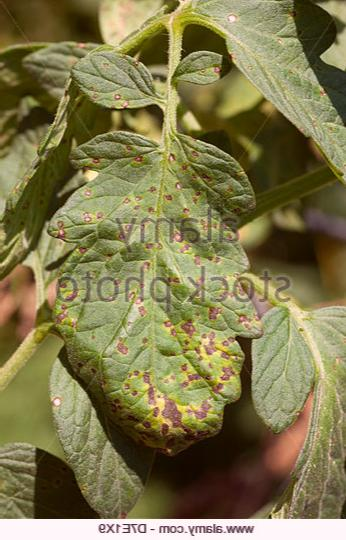Tomato Septoria leaf spot: (33, 129, 260, 463)
